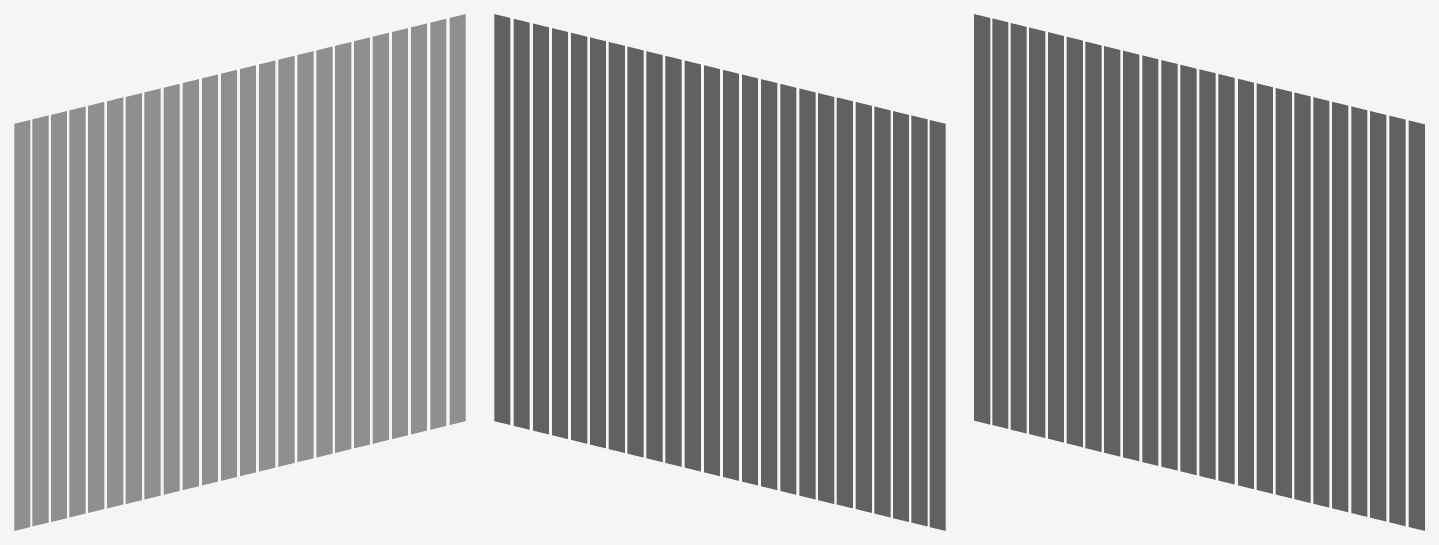
Rendered from straight.gltf.
3 renders of one model, left to right at view 1: azimuth 30°, elevation 25°; view 2: azimuth 150°, elevation 25°; view 3: azimuth 330°, elevation 25°, orthographic.
Parts seen in each view (by area): view 1: straight; view 2: straight; view 3: straight.
Boxes of the visible parts, x1,y1,x2,y2 form: straight: (14,14,465,530); straight: (494,14,945,530); straight: (974,14,1424,530).
Size of the model in its own units: 707 by 610 by 2.26e-14.
24 materials, 24 textured.
